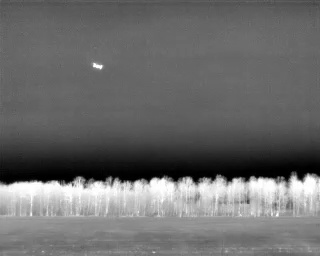DRONE: (87, 58, 107, 74)
